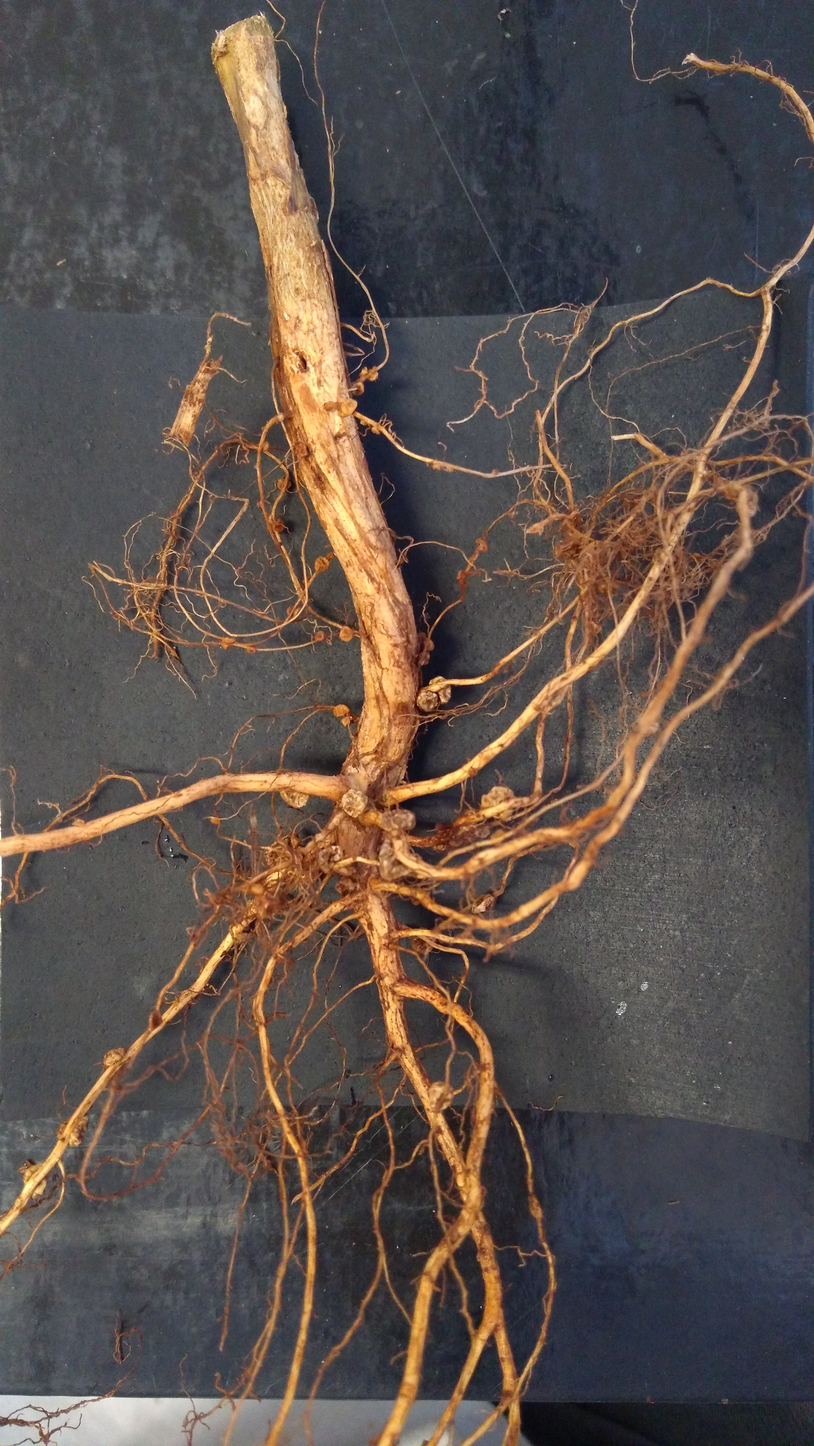nodule: (478, 780, 519, 824), (54, 1109, 98, 1149), (448, 808, 491, 847), (376, 839, 416, 879), (424, 1077, 461, 1117), (377, 804, 420, 835), (337, 785, 372, 822), (19, 1163, 50, 1198), (275, 786, 315, 812), (99, 1043, 129, 1075), (315, 844, 343, 876), (428, 675, 453, 706), (409, 928, 436, 955), (414, 688, 440, 713), (336, 397, 360, 421), (487, 826, 512, 847), (263, 839, 281, 866), (337, 623, 356, 647), (313, 554, 333, 574), (293, 440, 312, 460), (335, 878, 355, 897), (219, 633, 238, 652), (330, 702, 351, 719), (350, 379, 368, 398), (272, 517, 289, 537), (286, 605, 304, 620), (367, 369, 383, 385), (475, 537, 490, 554), (277, 477, 294, 491), (418, 650, 431, 667), (369, 426, 385, 439), (289, 835, 304, 848), (71, 818, 88, 829), (422, 637, 435, 651), (314, 630, 327, 643), (244, 645, 260, 655), (262, 439, 273, 453), (339, 716, 352, 727), (357, 366, 369, 377), (358, 417, 368, 425), (492, 468, 501, 475)
